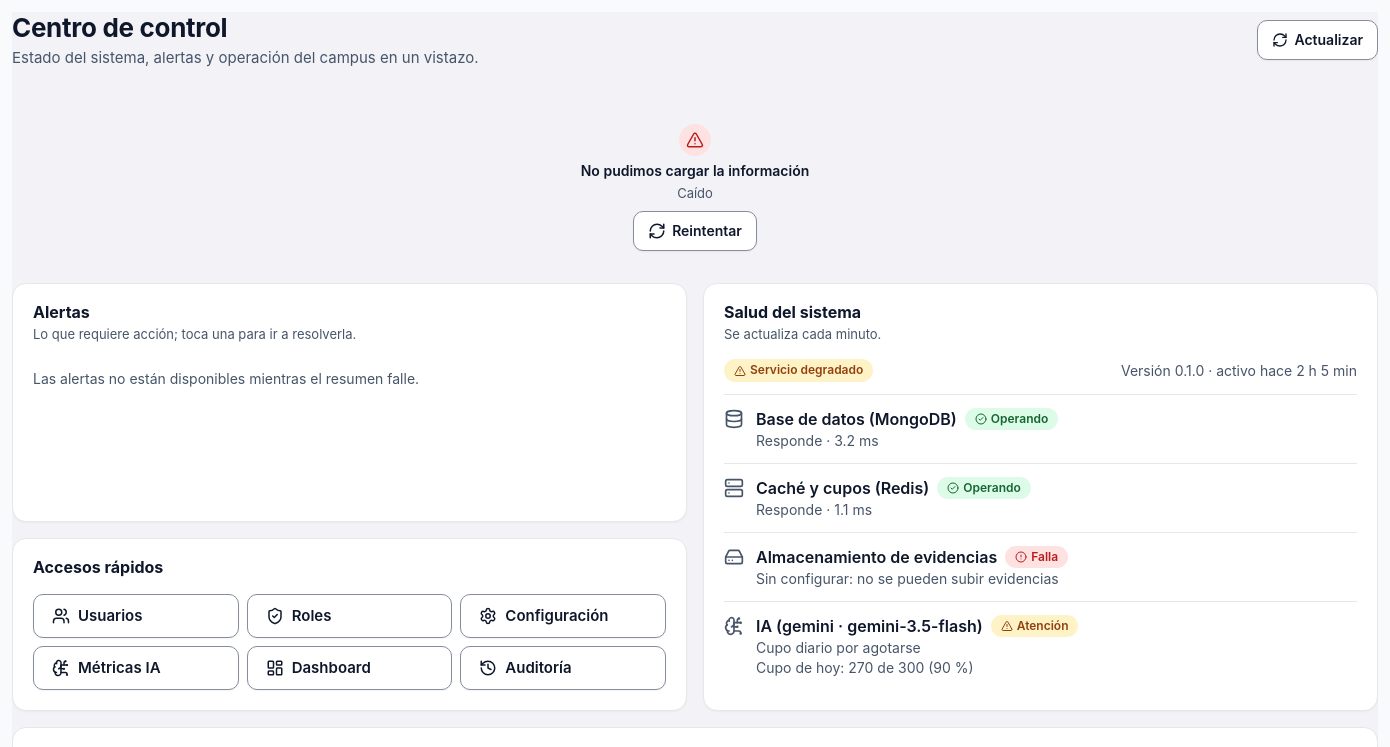
Scenario: CentroControl › error del resumen ofrece Reintentar
Click the button "Reintentar".
click(695, 231)  # box [633, 211, 757, 251]
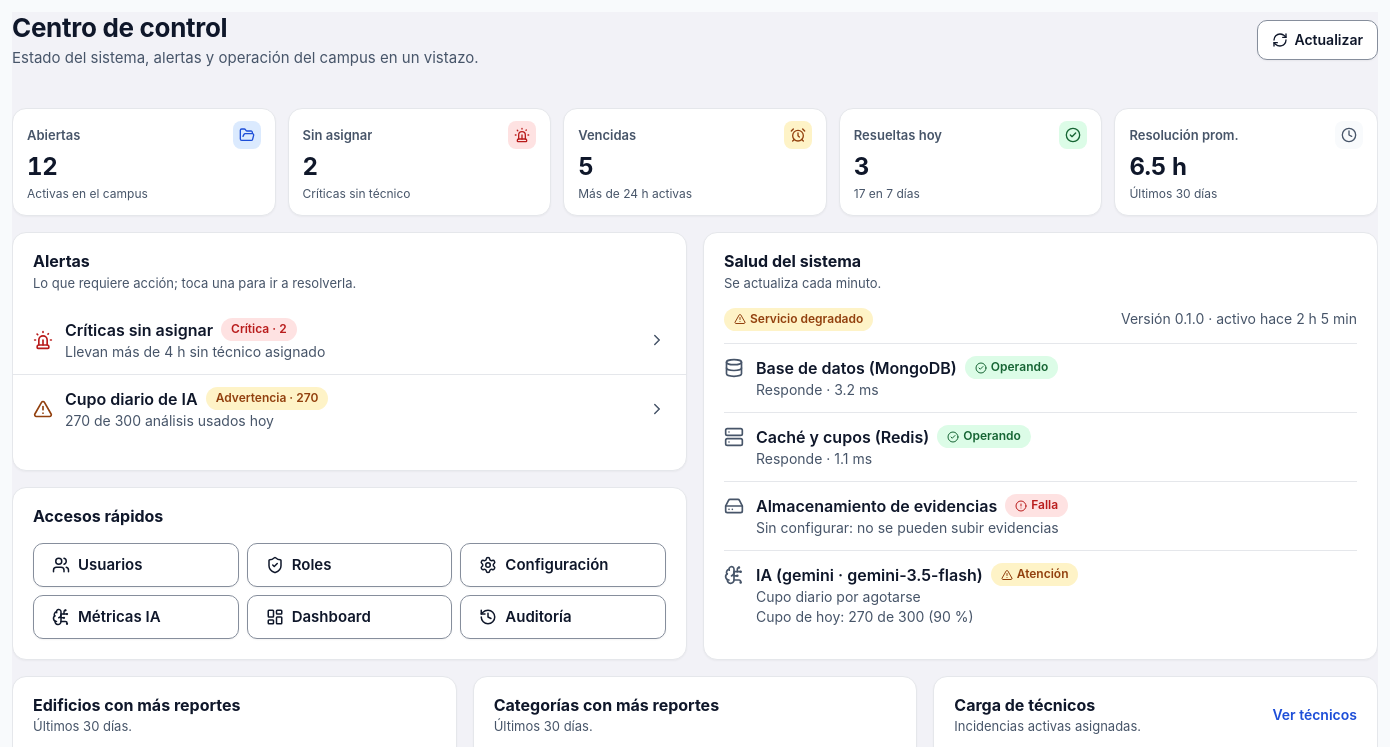
Now the text "Vencidas" is shown, box [578, 127, 636, 144]
